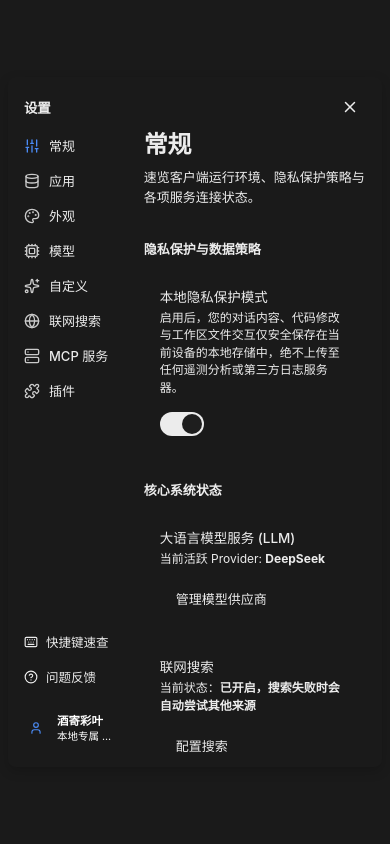
SettingsModal › 点击各导航 Tab 能在面板之间流畅切换
Step 1. Click the tab with aria-label "存储与维护" → (68, 180), box [14,164,122,197]
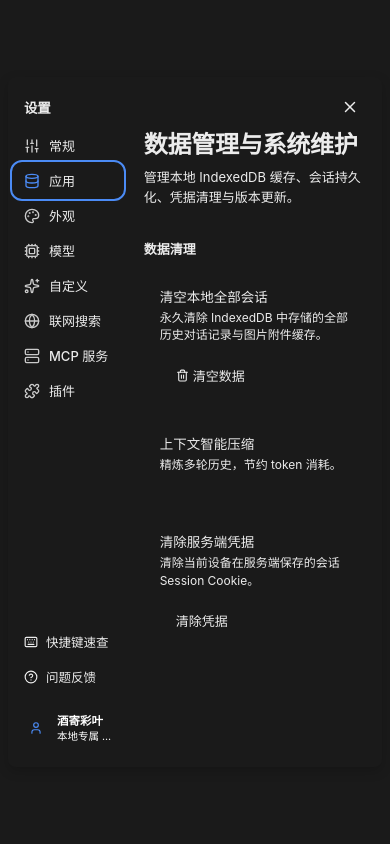
Expected: the heading "数据管理与系统维护" is shown, [144,125,366,160]
#  切到快捷键面板
Step 2. Click the tab "快捷键速查" → (68, 642), box [14,626,122,657]
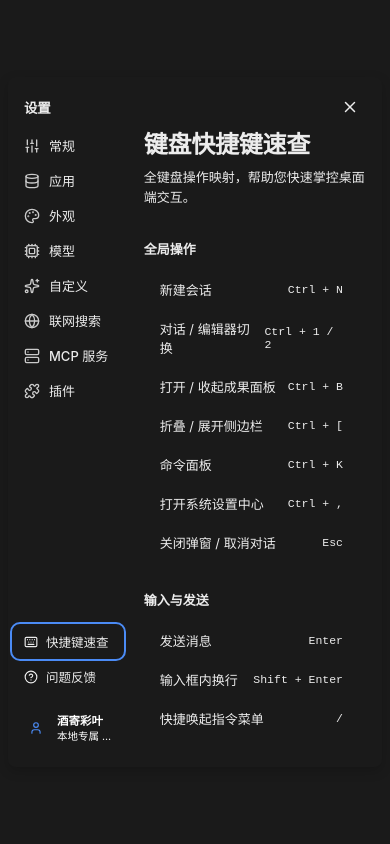
Expected: the heading "键盘快捷键速查" is shown, [144,130,310,159]
Expected: the text "Ctrl + N" is shown, [288,283,343,296]
